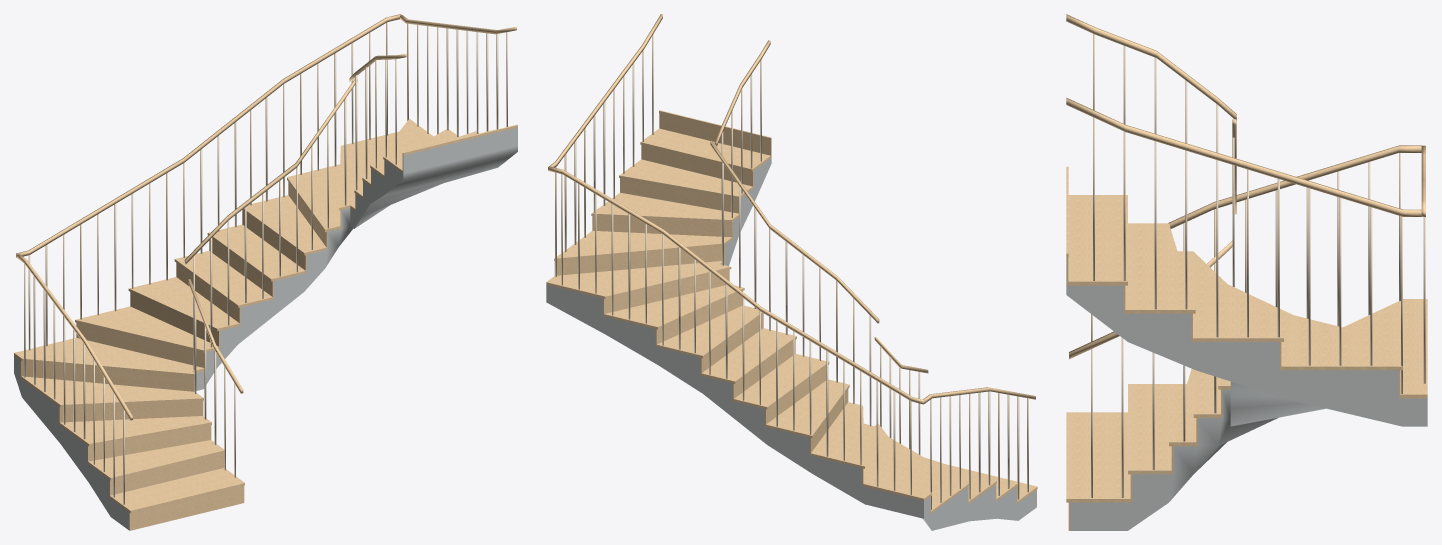
File: sweethome3d-contributions-triple-winder-staircase-487.glb
3 views of the same model, side by side, from view 1: azimuth 30°, elevation 25°; view 2: azimuth 150°, elevation 25°; view 3: azimuth 270°, elevation 25° (orthographic). The views are drawn at different scales.
Visible parts, largest first — view 1: 22_22, 84_84, 12_12, 69_69, 55_55, 54_54, 4_4, 34_34, 7_7, 9_9, 31_31, 35_35 (+1 smaller); view 2: 22_22, 84_84, 12_12, 69_69, 55_55, 54_54, 4_4, 34_34, 31_31, 7_7, 9_9, 33_33; view 3: 22_22, 12_12, 54_54, 33_33, 55_55, 35_35, 9_9, 30_30, 7_7, 84_84, 32_32, 69_69 (+1 smaller).
Part boxes in pixels (bbox=[...]): 22_22: bbox=[14, 119, 495, 513]; 84_84: bbox=[20, 155, 402, 530]; 12_12: bbox=[14, 127, 517, 530]; 69_69: bbox=[28, 22, 387, 350]; 55_55: bbox=[24, 263, 124, 504]; 54_54: bbox=[407, 23, 507, 136]; 4_4: bbox=[193, 98, 346, 370]; 34_34: bbox=[16, 14, 401, 257]; 7_7: bbox=[355, 59, 396, 190]; 9_9: bbox=[194, 300, 235, 477]; 31_31: bbox=[184, 78, 357, 264]; 35_35: bbox=[17, 254, 132, 420]; 22_22: bbox=[546, 128, 1037, 513]; 84_84: bbox=[554, 113, 1036, 513]; 12_12: bbox=[546, 158, 1036, 530]; 69_69: bbox=[561, 174, 911, 494]; 55_55: bbox=[930, 391, 1028, 509]; 54_54: bbox=[555, 34, 653, 276]; 4_4: bbox=[722, 162, 871, 426]; 34_34: bbox=[548, 166, 924, 404]; 31_31: bbox=[710, 140, 879, 323]; 7_7: bbox=[721, 59, 761, 242]; 9_9: bbox=[880, 346, 920, 454]; 33_33: bbox=[549, 14, 662, 167]; 22_22: bbox=[1066, 195, 1427, 502]; 12_12: bbox=[1066, 257, 1427, 530]; 54_54: bbox=[1093, 117, 1402, 393]; 33_33: bbox=[1066, 97, 1421, 216]; 55_55: bbox=[1091, 153, 1400, 341]; 35_35: bbox=[1168, 145, 1421, 228]; 9_9: bbox=[1091, 262, 1216, 497]; 30_30: bbox=[1066, 14, 1236, 120]; 7_7: bbox=[1093, 34, 1218, 152]; 84_84: bbox=[1066, 257, 1400, 530]; 32_32: bbox=[1069, 240, 1232, 359]; 69_69: bbox=[1423, 217, 1425, 383].
Size of the model in its own units: 338 by 342 by 176.
7 materials, 4 textured.
